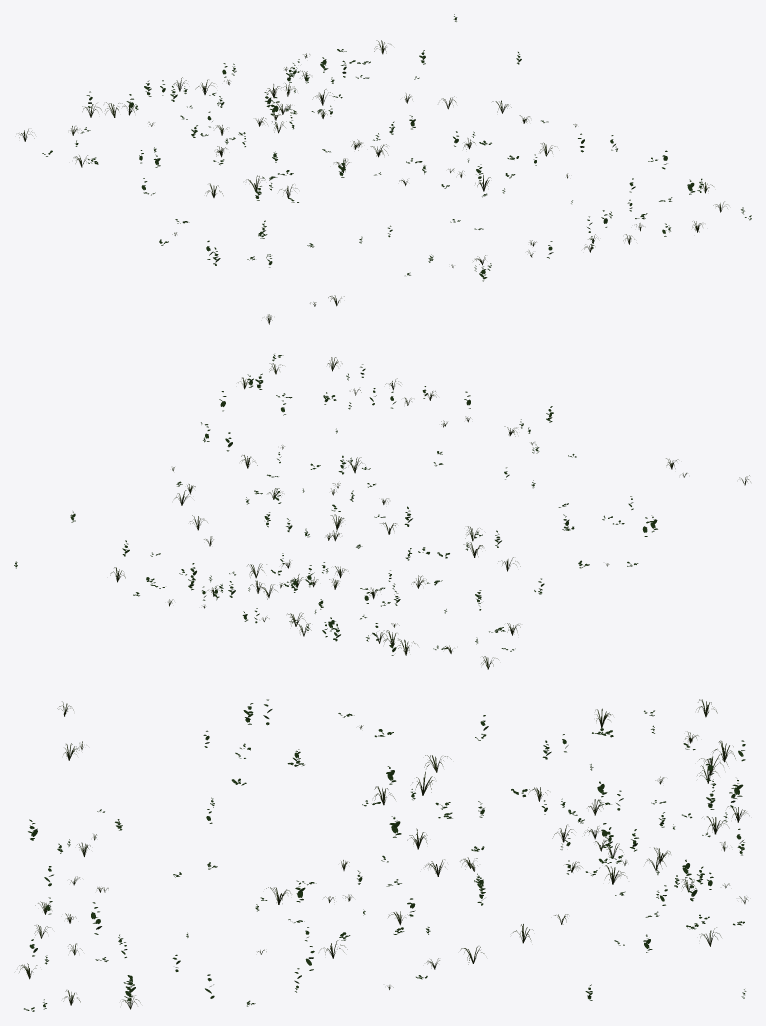
Rendered from weeds_-01-01_foliage.dae.
3 views of the same model, one above another, from view 1: azimuth 30°, elevation 25°; view 2: azimuth 150°, elevation 25°; view 3: azimuth 270°, elevation 25° (orthographic). The views are drawn at different scales.
Visible parts, largest first — view 1: weeds_-01-01_foliage; view 2: weeds_-01-01_foliage; view 3: weeds_-01-01_foliage.
Boxes of the visible parts, <box> form: weeds_-01-01_foliage: <box>18,14,751,324</box>; weeds_-01-01_foliage: <box>14,354,750,669</box>; weeds_-01-01_foliage: <box>19,699,749,1011</box>.
Bounding box in the file's own units: 9.89 × 10.17 × 0.4626.
